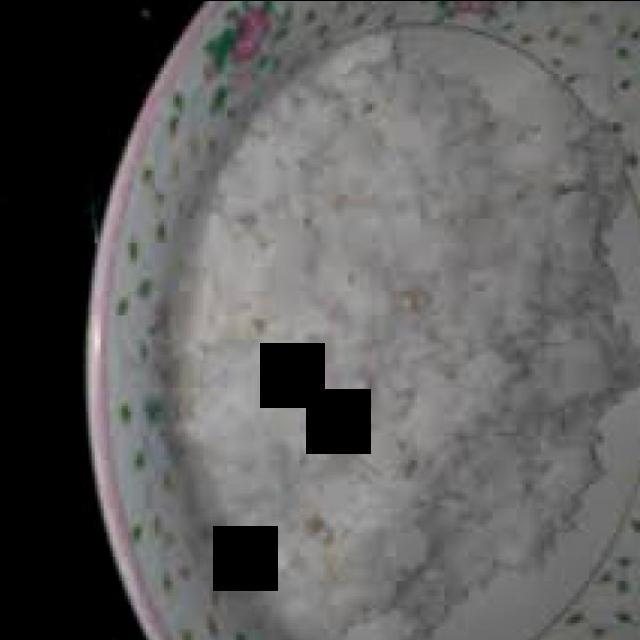Chicken -Chicken Inasal-: (215, 41, 616, 635)
